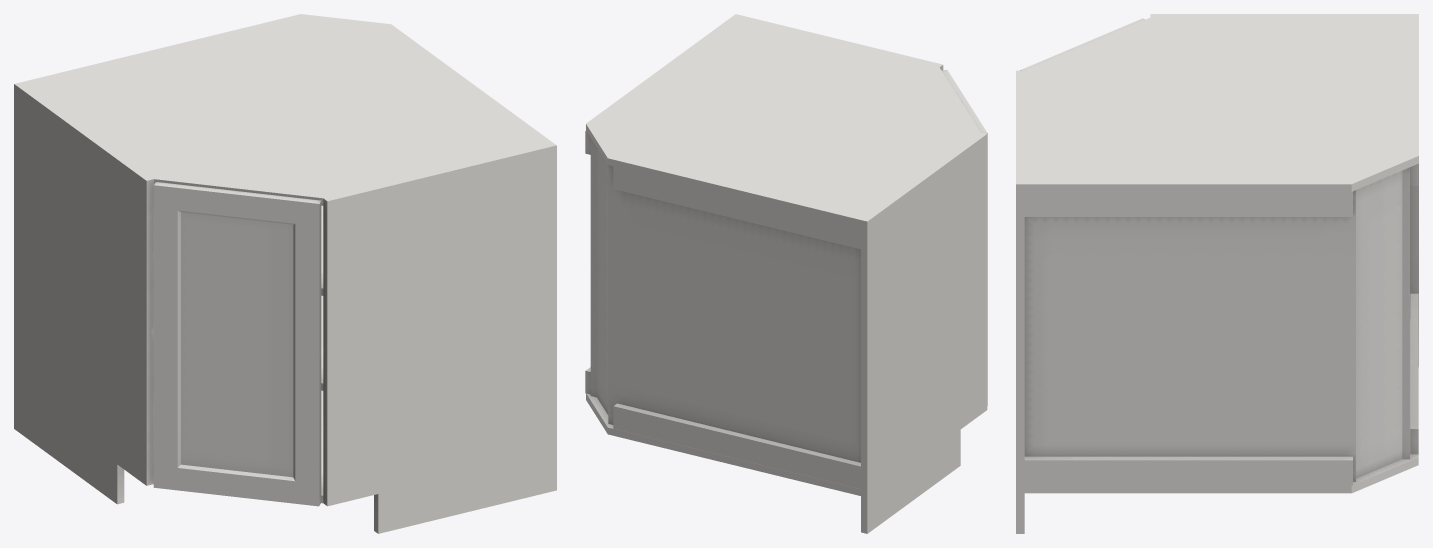
The model's file is 45-corner-base-doors-on.glb.
The picture shows the model from 3 angles, left to right: view 1: azimuth 30°, elevation 25°; view 2: azimuth 150°, elevation 25°; view 3: azimuth 270°, elevation 25°; orthographic projection. The views are drawn at different scales.
Visible parts, largest first — view 1: part_0, part_16; view 2: part_0, part_16; view 3: part_0.
Part boxes in pixels (x1,y1,x2,y2): part_0: (14,14,556,533); part_16: (153,182,321,506); part_0: (585,14,987,533); part_16: (941,70,987,405); part_0: (1016,14,1418,533).
Bounding box in the file's own units: 0.9144 × 0.8763 × 0.9144.
Materials: 2 (2 with a texture image).
